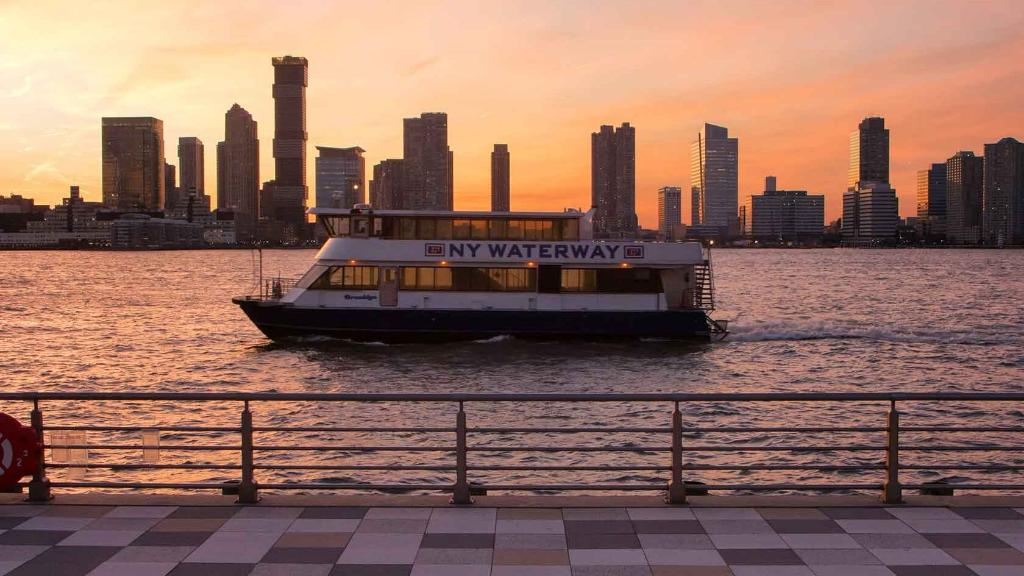PassengerShip: (216, 188, 758, 360)
